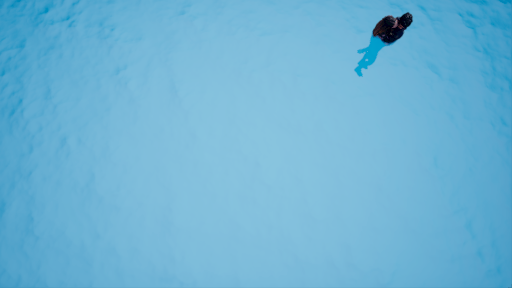person: (358, 14, 413, 84)
